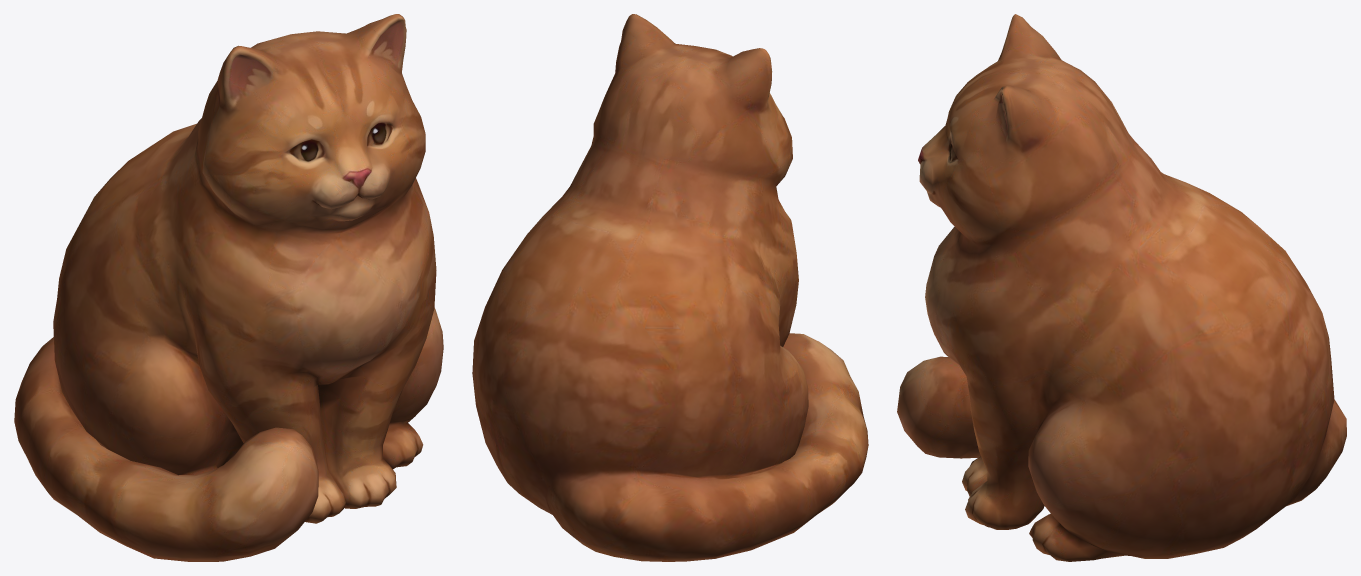
The model's file is cat.glb.
3 views of the same model, side by side, from view 1: azimuth 30°, elevation 25°; view 2: azimuth 150°, elevation 25°; view 3: azimuth 270°, elevation 25° (orthographic). The views are drawn at different scales.
Parts seen in each view (by area): view 1: geometry_0; view 2: geometry_0; view 3: geometry_0.
Part boxes in pixels (x1,y1,x2,y2): geometry_0: [14, 14, 443, 561]; geometry_0: [472, 14, 868, 561]; geometry_0: [897, 14, 1346, 561].
Bounding box in the file's own units: 0.7666 × 0.9531 × 0.8467.
Materials: 1 (1 with a texture image).
